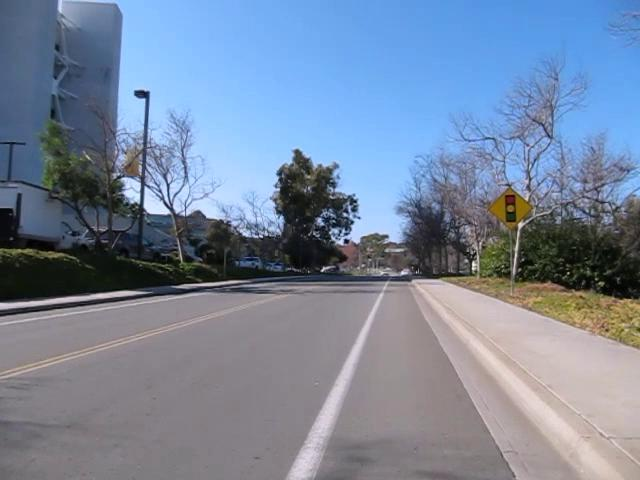signalAhead: (486, 185, 533, 231)
